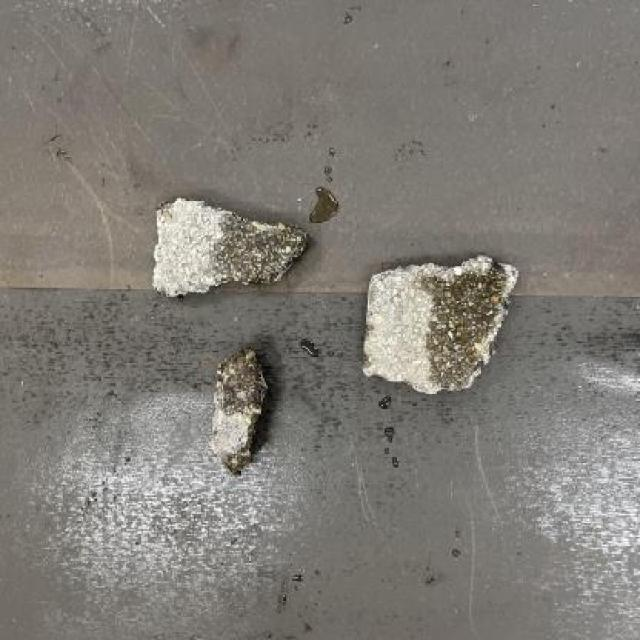Road Debris: (427, 264, 501, 379), (217, 220, 308, 278), (222, 346, 270, 411)
